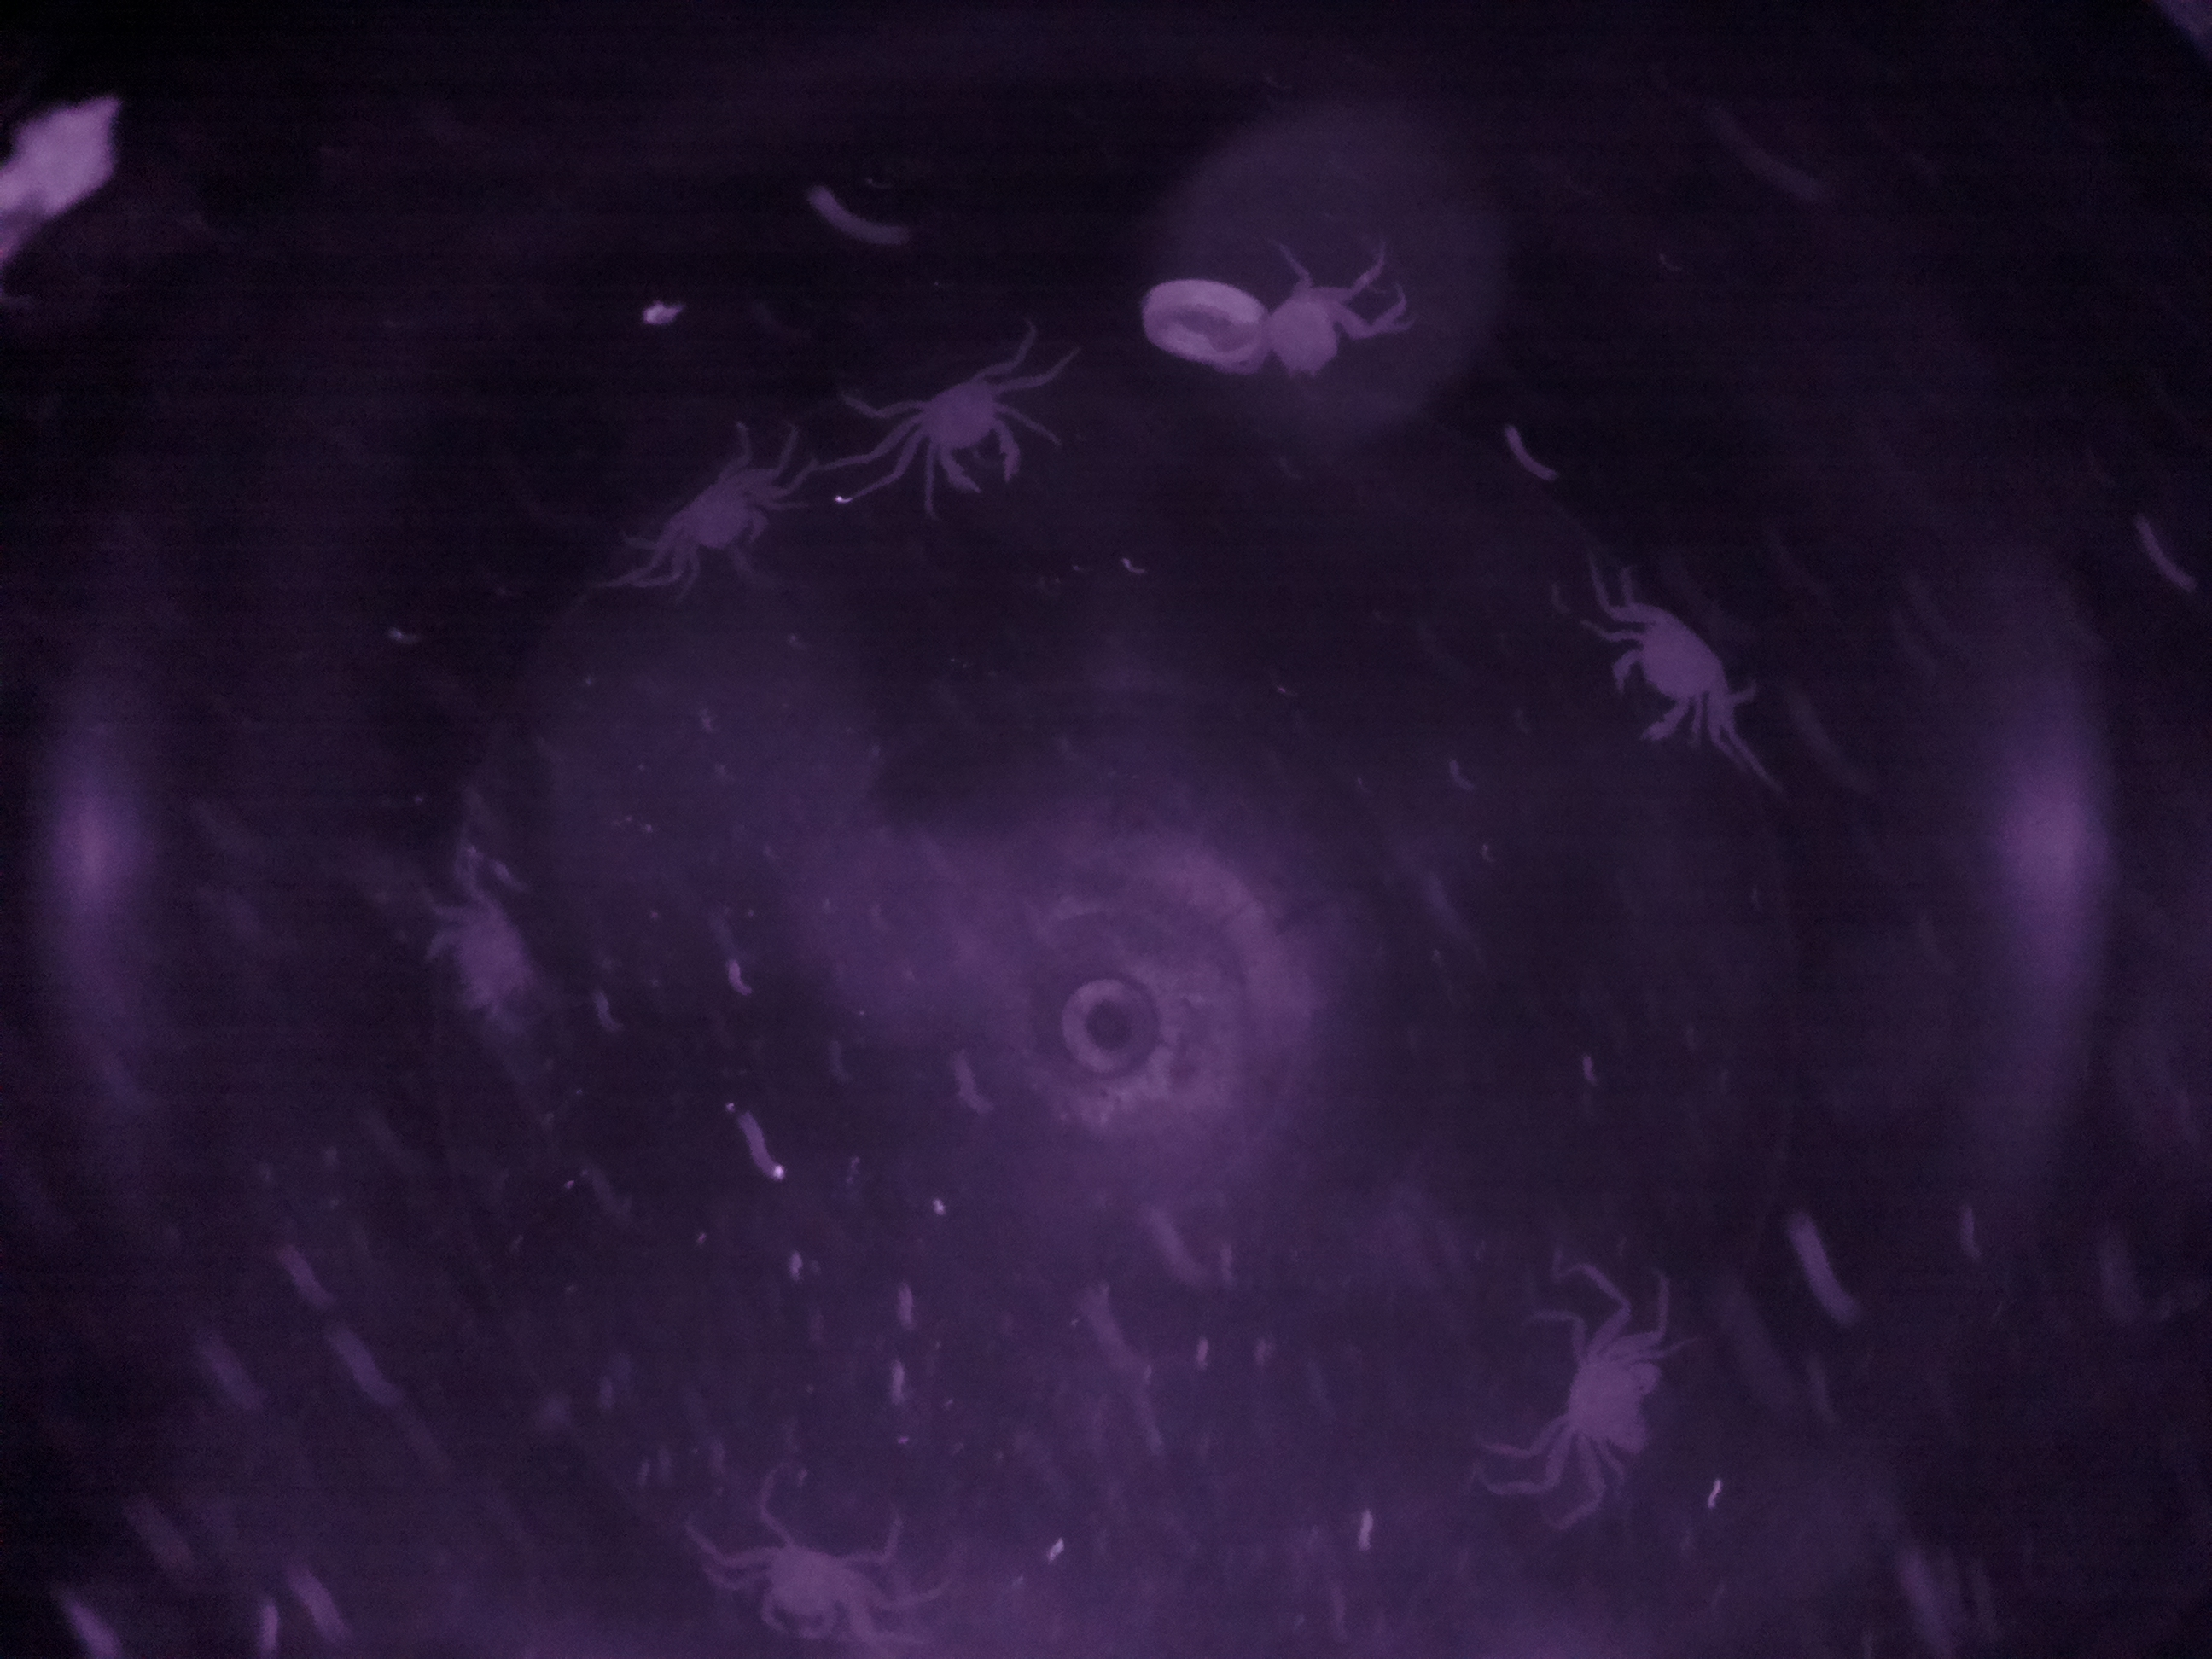Crab: (1585, 561, 1761, 770), (1527, 1276, 1686, 1507), (617, 420, 798, 605), (866, 340, 1040, 514)
